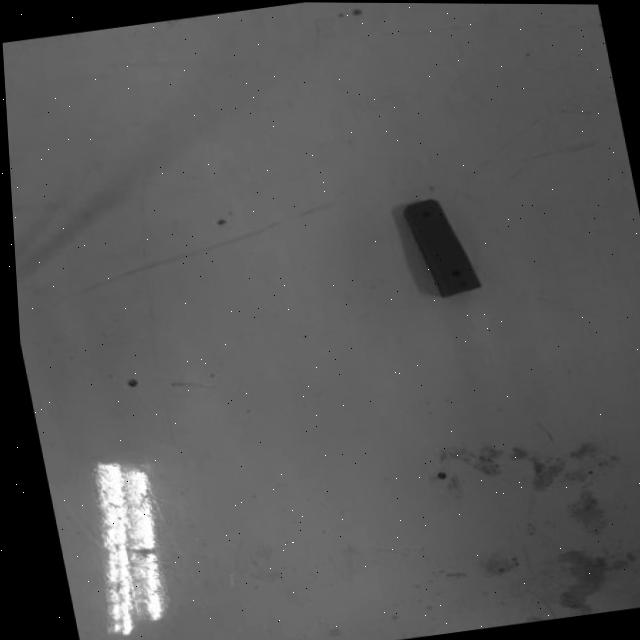grey: (399, 191, 489, 300)
head: (415, 205, 433, 221)
